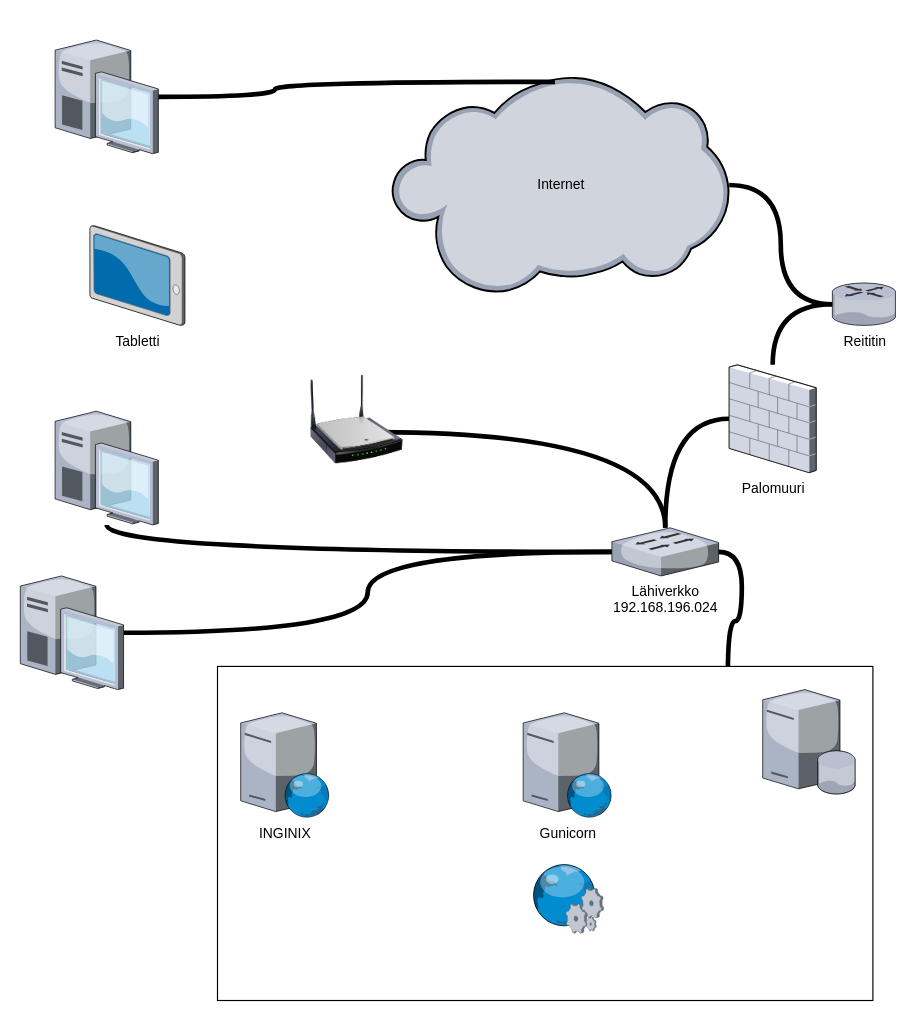
Some shapes in this 915 by 1021 pixel diagram are drawn without their labels. Here are the shapes that lost their labels. From the top down, the box of each, then its label:
(55, 39, 158, 153): Etätyöasema
(310, 372, 403, 465): Langattoman verkon tukiasema
(762, 689, 855, 793): postgreSQL 13
(530, 863, 603, 933): Django
